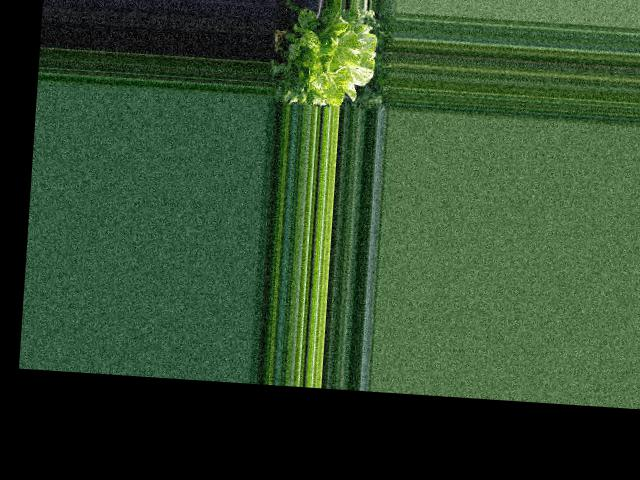lettuce: (288, 7, 377, 99)
